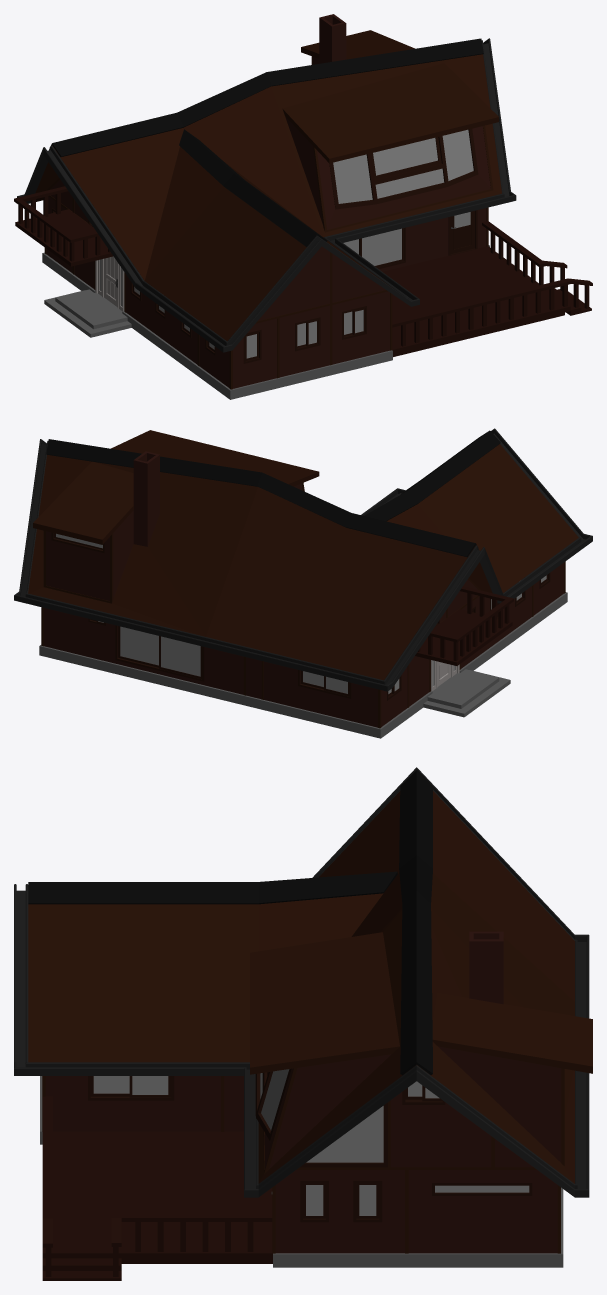
3 views of the same model, one above another, from view 1: azimuth 30°, elevation 25°; view 2: azimuth 150°, elevation 25°; view 3: azimuth 270°, elevation 25° (orthographic). The views are drawn at different scales.
Visible parts, largest first — view 1: h-005_roof, h-005_outerWall, h-005_firstBalcony, h-005_roofEdge, h-005_dropbox, h-005_foundation, h-005_win_10_frame, h-005_SecondBalcony, h-005_molding_outerWall, h-005_win_10_door, h-005_win_04_win_L001, h-005_fireplace (+3 smaller); view 2: h-005_roof, h-005_outerWall, h-005_dropbox, h-005_roofEdge, h-005_foundation, h-005_SecondBalcony, h-005_fireplace, h-005_molding_outerWall, h-005_win_04_win_L, h-005_win_04_win_R, h-005_win_04_frame; view 3: h-005_roof, h-005_outerWall, h-005_firstBalcony, h-005_roofEdge, h-005_dropbox, h-005_foundation, h-005_molding_outerWall, h-005_win_07_01, h-005_fireplace, h-005_win_10_frame, h-005_win_08, h-005_win_03_win_L001 (+3 smaller).
Boxes of the visible parts, x1,y1,x2,y2 form: h-005_roof: (35,30,501,341); h-005_outerWall: (46,57,490,388); h-005_firstBalcony: (383,221,592,356); h-005_roofEdge: (51,38,483,246); h-005_dropbox: (17,38,516,352); h-005_foundation: (42,245,489,399); h-005_win_10_frame: (329,128,478,209); h-005_SecondBalcony: (14,186,112,266); h-005_molding_outerWall: (44,56,493,389); h-005_win_10_door: (371,137,441,179); h-005_win_04_win_L001: (359,228,403,267); h-005_fireplace: (319,14,346,63); h-005_roof: (28,430,578,680); h-005_outerWall: (44,483,563,727); h-005_dropbox: (14,428,592,691); h-005_roofEdge: (46,430,500,557); h-005_foundation: (39,592,567,738); h-005_SecondBalcony: (415,586,513,665); h-005_fireplace: (133,451,159,546); h-005_molding_outerWall: (41,482,565,728); h-005_win_04_win_L: (159,636,202,678); h-005_win_04_win_R: (118,626,158,667); h-005_win_04_frame: (115,625,204,681); h-005_roof: (28,791,592,1183); h-005_outerWall: (45,1046,561,1253); h-005_firstBalcony: (42,1096,272,1280); h-005_roofEdge: (28,770,432,1075); h-005_dropbox: (14,767,589,1197); h-005_foundation: (40,1076,563,1267); h-005_molding_outerWall: (42,1068,564,1253); h-005_win_07_01: (300,1102,387,1167); h-005_fireplace: (469,931,503,1004); h-005_win_10_frame: (255,1068,291,1141); h-005_win_08: (432,1183,532,1195); h-005_win_03_win_L001: (129,1076,171,1097).
Size of the model in its own units: 251 by 106 by 201.
